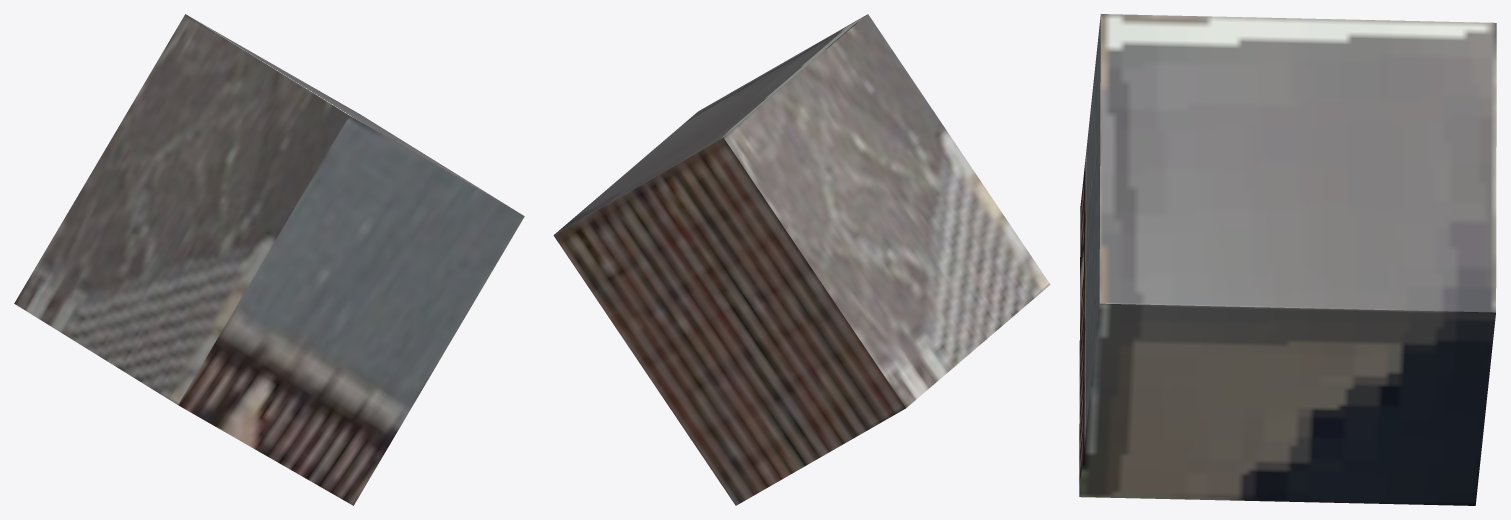
3 views of the same model, side by side, from view 1: azimuth 30°, elevation 25°; view 2: azimuth 150°, elevation 25°; view 3: azimuth 270°, elevation 25° (orthographic). The views are drawn at different scales.
Visible parts, largest first — view 1: BAG_0599100100019946; view 2: BAG_0599100100019946; view 3: BAG_0599100100019946.
Boxes of the visible parts, left/top/right/bottom form: BAG_0599100100019946: left=14, top=14, right=524, bottom=505; BAG_0599100100019946: left=553, top=14, right=1050, bottom=505; BAG_0599100100019946: left=1079, top=14, right=1496, bottom=505.
Size of the model in its own units: 3.34 by 3.48 by 2.63.
1 material, 1 textured.
